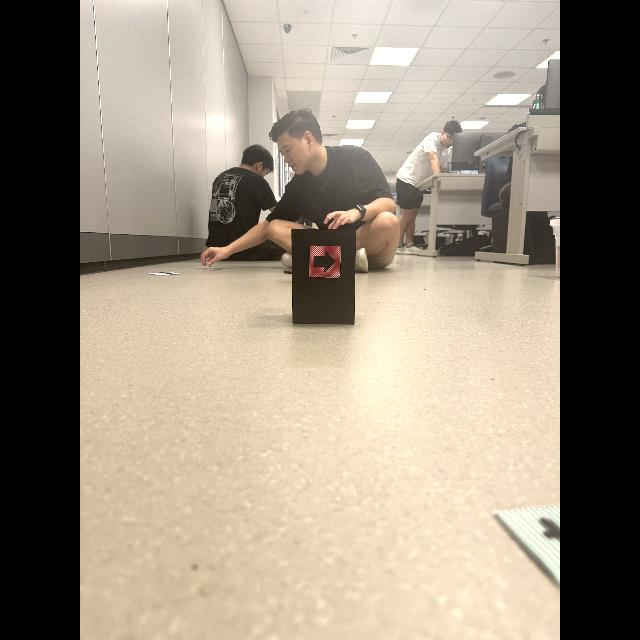RIGHT: (313, 250, 335, 272)
